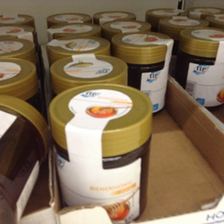honey: (47, 85, 154, 224)
